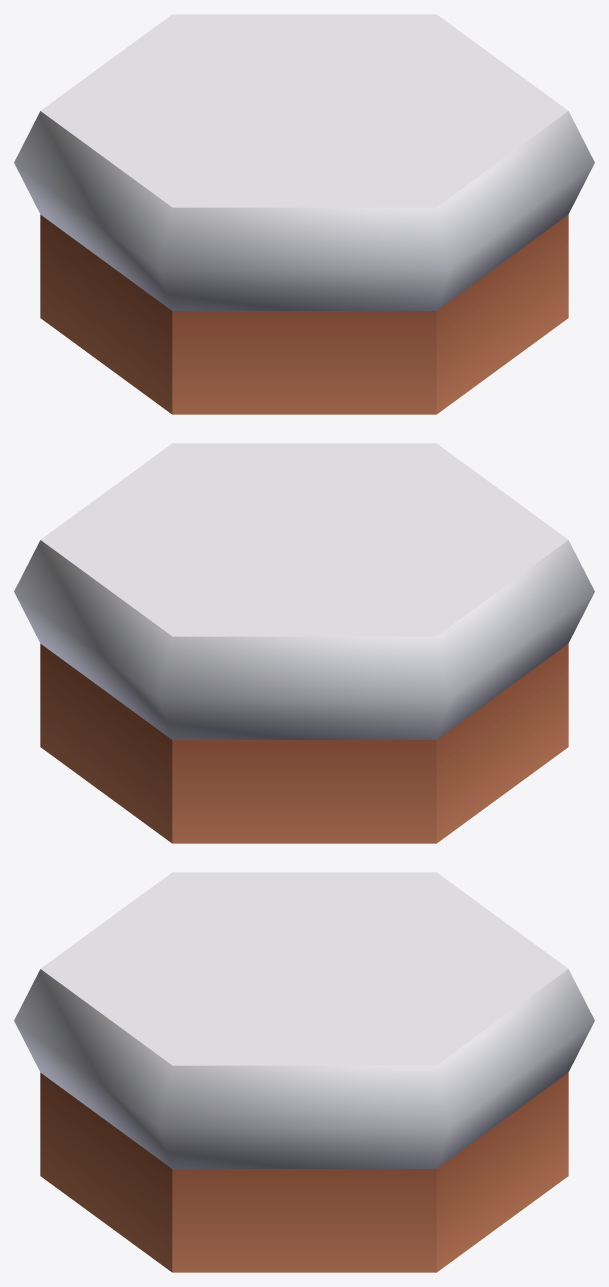
File: kenney-platformer-block-snow-low-hexagon.glb
The picture shows the model from 3 angles, top to bottom: view 1: azimuth 30°, elevation 25°; view 2: azimuth 150°, elevation 25°; view 3: azimuth 270°, elevation 25°; orthographic projection.
Visible parts, largest first — view 1: block-snow-low-hexagon; view 2: block-snow-low-hexagon; view 3: block-snow-low-hexagon.
Boxes of the visible parts, x1,y1,x2,y2 form: block-snow-low-hexagon: [14, 14, 594, 414]; block-snow-low-hexagon: [14, 443, 594, 843]; block-snow-low-hexagon: [14, 872, 594, 1272].
Size of the model in its own units: 1.1 by 0.4999 by 1.27.
Materials: 1 (1 with a texture image).
